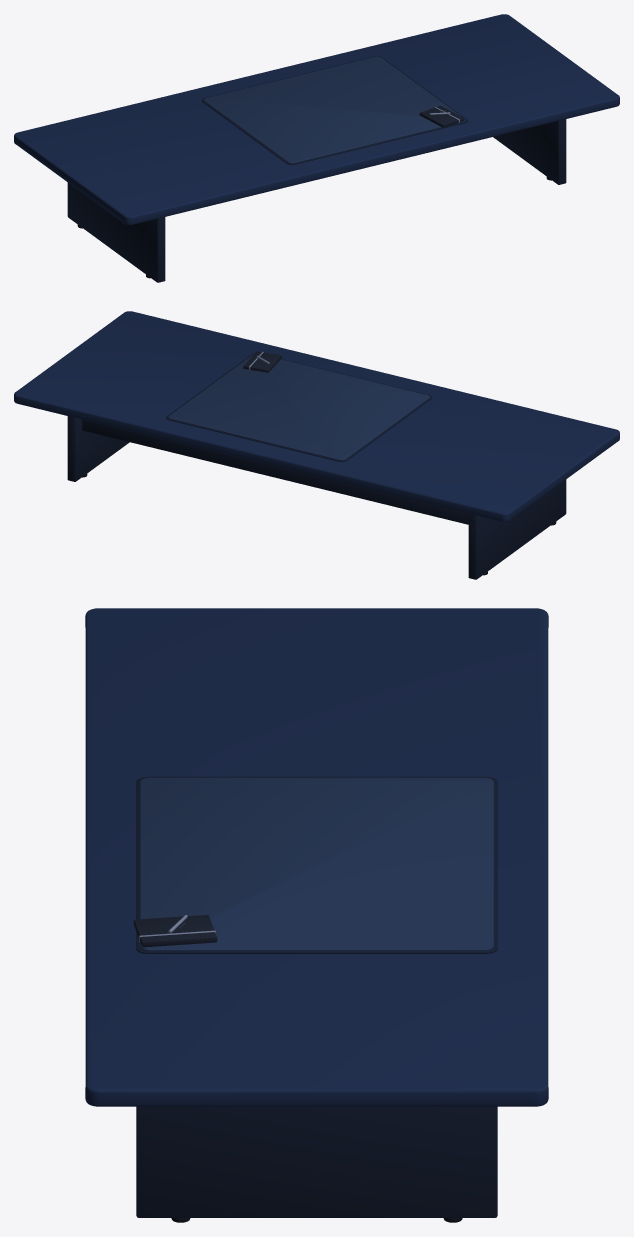
File: desk.glb
3 renders of one model, top to bottom at view 1: azimuth 30°, elevation 25°; view 2: azimuth 150°, elevation 25°; view 3: azimuth 270°, elevation 25°, orthographic. The views are drawn at different scales.
Parts seen in each view (by area): view 1: desk; view 2: desk; view 3: desk.
Boxes of the visible parts, box(x1,y1,x2,y2) form: desk: box(14, 14, 619, 282); desk: box(14, 311, 619, 579); desk: box(85, 608, 548, 1222).
Bounding box in the file's own units: 4.2 × 0.7619 × 1.7.
